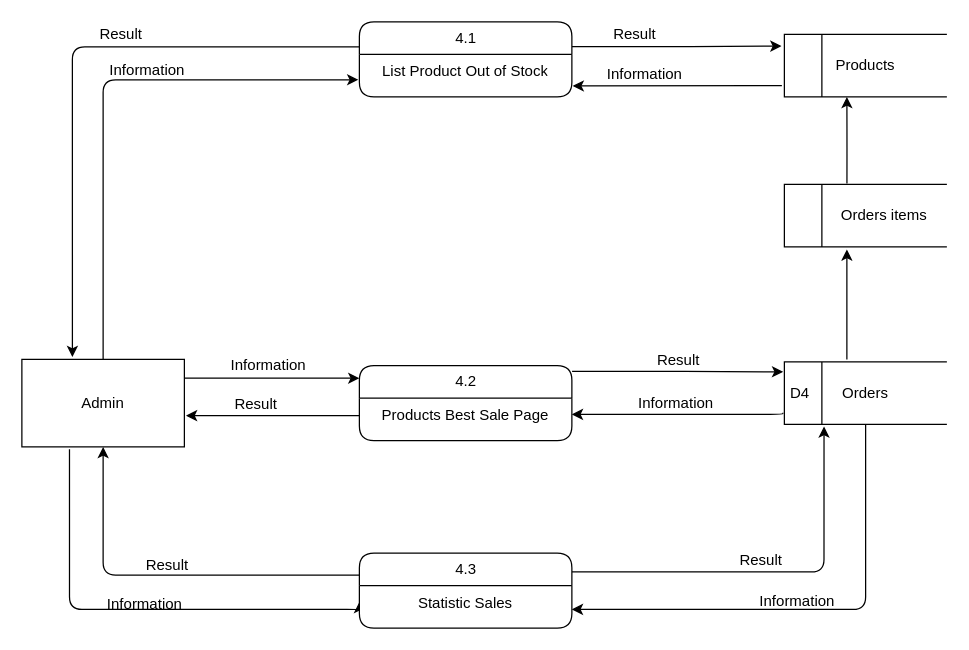
This 969x650 diagram has some shape labels left out. Here are the shapes that lost their labels. From the top down, the box of each, then its label:
(783, 33, 947, 97): D6
(783, 183, 947, 247): D5
